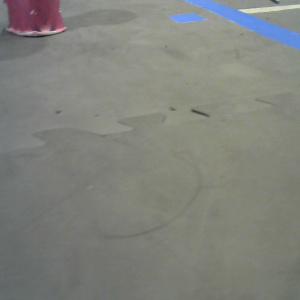middle: (4, 1, 67, 36)
